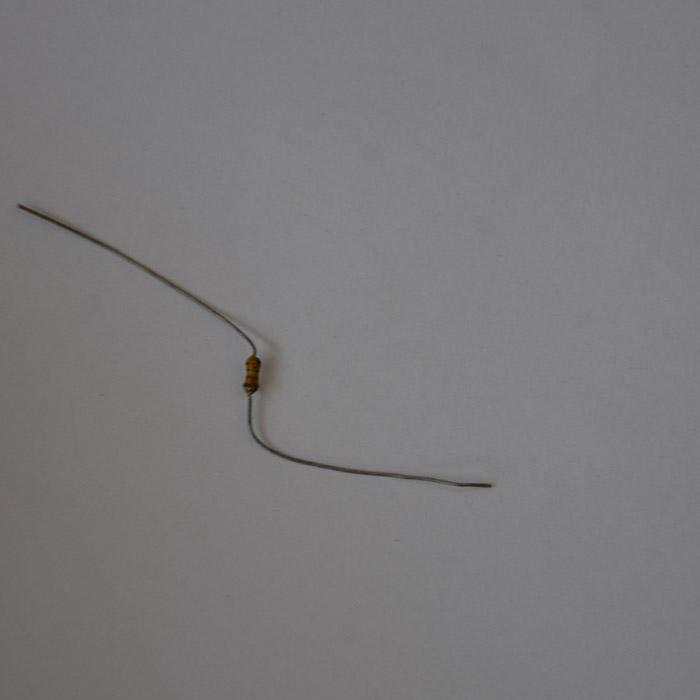resistor: (241, 353, 261, 397)
